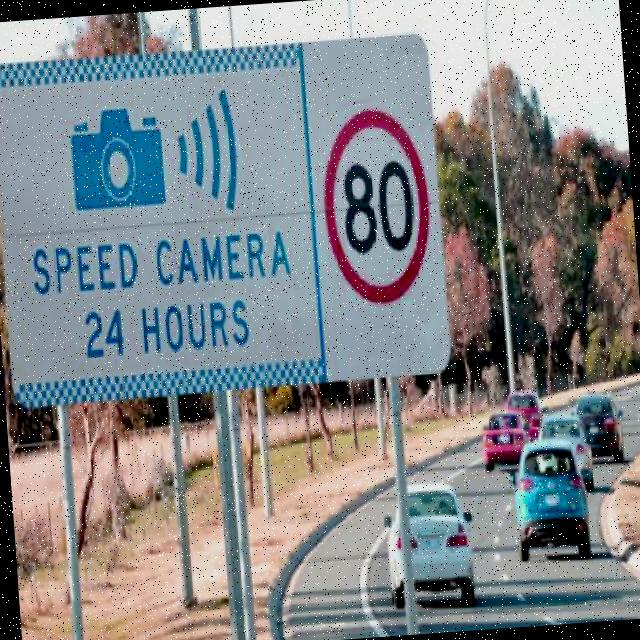Ograniczenie predkosci do 80: (317, 104, 435, 306)
